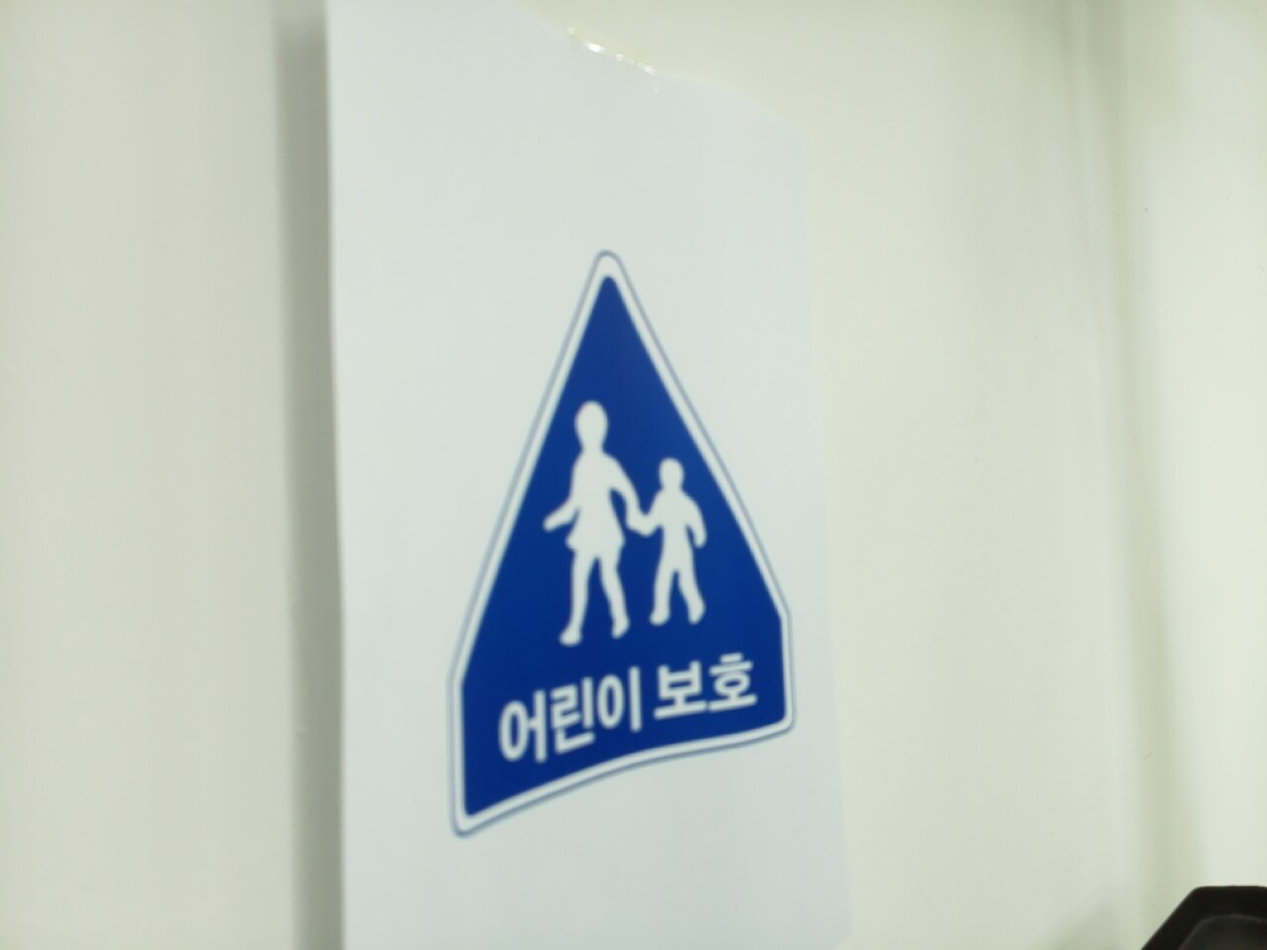school_zone: (450, 261, 796, 830)
